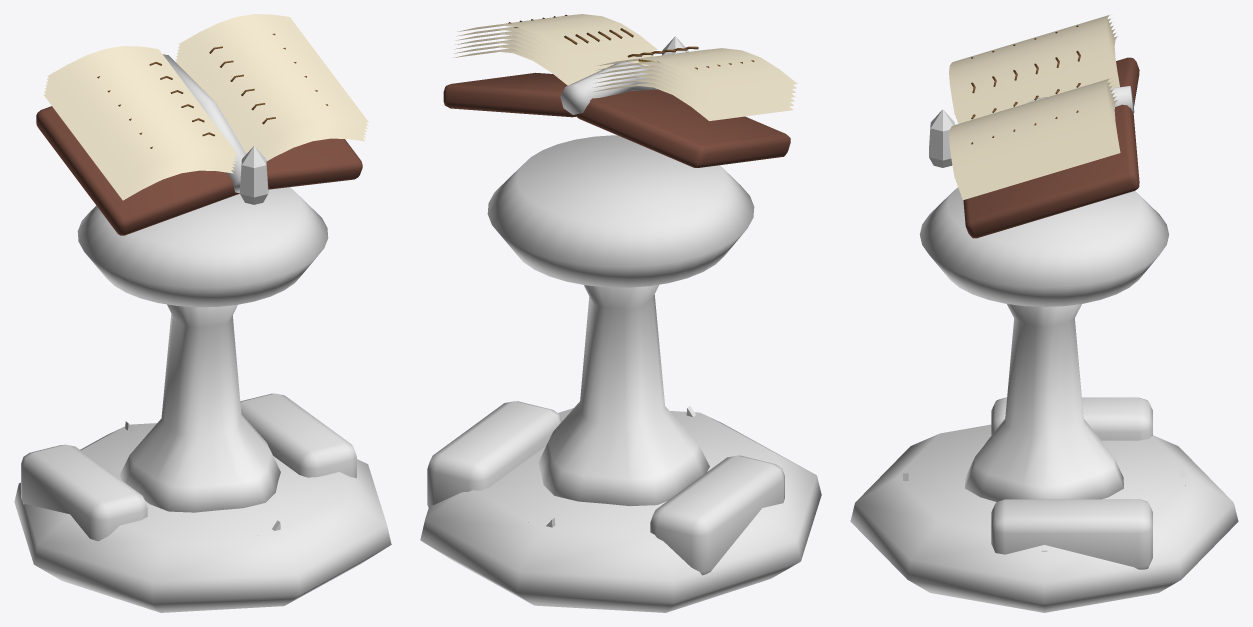
Rendered from book-1.fbx.
3 renders of one model, left to right at view 1: azimuth 30°, elevation 25°; view 2: azimuth 150°, elevation 25°; view 3: azimuth 270°, elevation 25°, orthographic. The views are drawn at different scales.
Parts seen in each view (by area): view 1: Pages_Organic, LibraryStone, ReadingPlinth, CarvedLectern, Base_Bark, BookSpine, Bookmark; view 2: LibraryStone, Pages_Organic, ReadingPlinth, CarvedLectern, Base_Bark, BookSpine; view 3: LibraryStone, Pages_Organic, ReadingPlinth, CarvedLectern, Base_Bark, Bookmark.
Part boxes in pixels (x1,y1,x2,y2): Pages_Organic: [36, 14, 368, 235]; LibraryStone: [14, 423, 391, 612]; ReadingPlinth: [77, 187, 328, 307]; CarvedLectern: [119, 304, 280, 512]; Base_Bark: [21, 393, 356, 541]; BookSpine: [163, 54, 245, 192]; Bookmark: [240, 146, 268, 204]; LibraryStone: [420, 408, 821, 612]; Pages_Organic: [443, 14, 797, 167]; ReadingPlinth: [487, 135, 754, 287]; CarvedLectern: [538, 284, 709, 506]; Base_Bark: [427, 401, 784, 575]; BookSpine: [560, 62, 657, 114]; LibraryStone: [850, 424, 1238, 612]; Pages_Organic: [949, 15, 1139, 238]; ReadingPlinth: [919, 187, 1169, 306]; CarvedLectern: [965, 304, 1123, 501]; Base_Bark: [991, 397, 1152, 569]; Bookmark: [929, 109, 954, 167].
Size of the model in its own units: 84 by 116 by 84.
